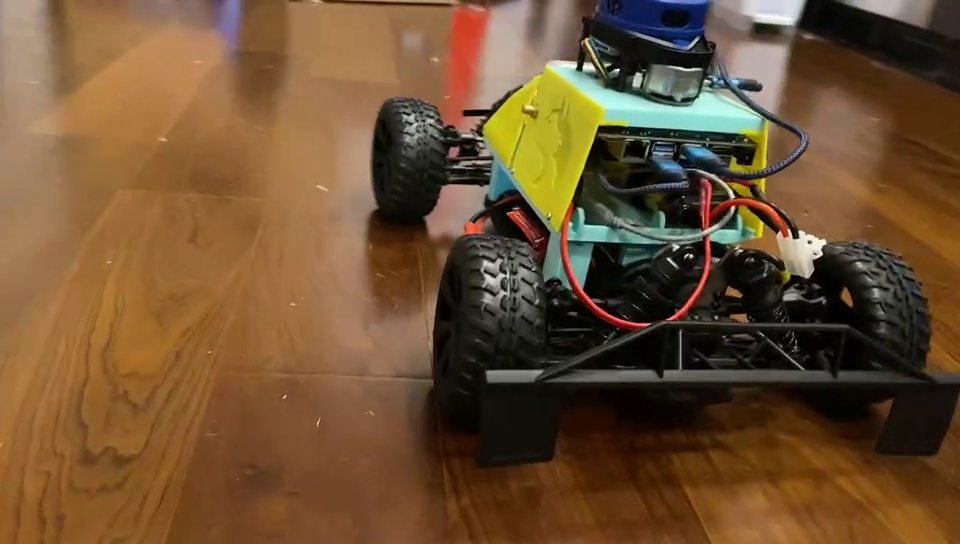mushr_car: (359, 4, 955, 468)
